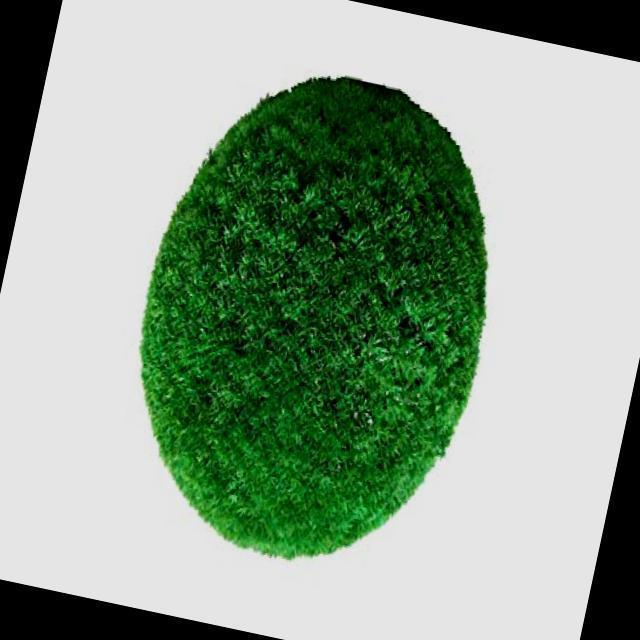Circle: (133, 66, 498, 568)
